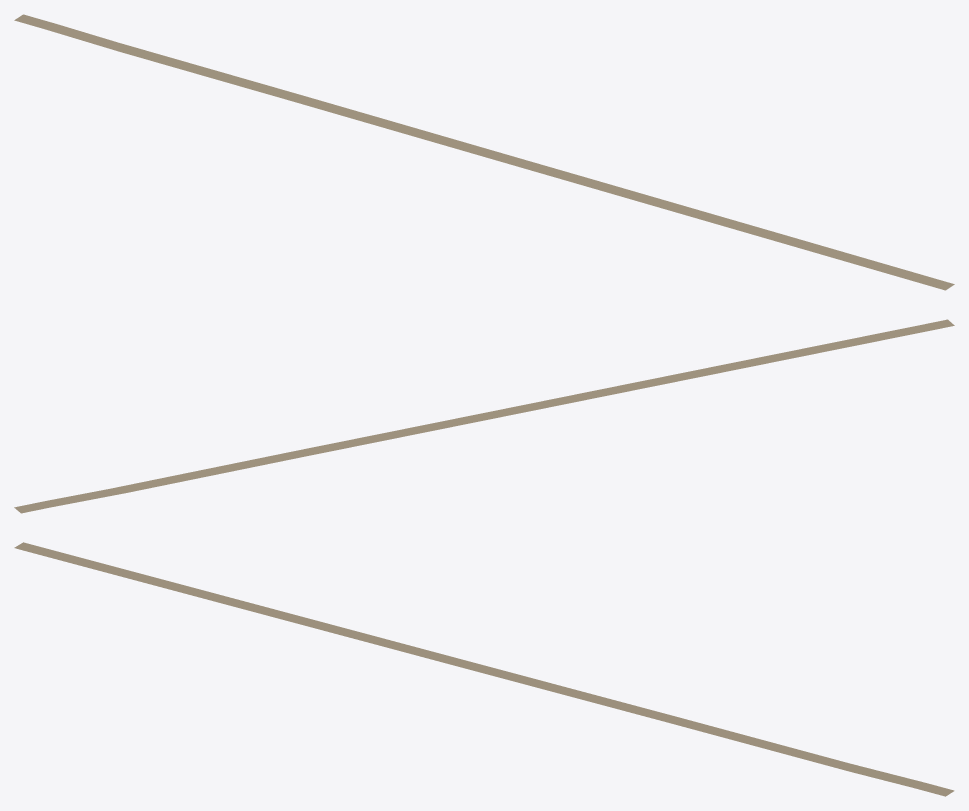
File: farm_-47_-41_track.glb
3 renders of one model, top to bottom at view 1: azimuth 90°, elevation 25°; view 2: azimuth 150°, elevation 25°; view 3: azimuth 270°, elevation 25°, orthographic. The views are drawn at different scales.
Parts seen in each view (by area): view 1: geometry_0; view 2: geometry_0; view 3: geometry_0.
Boxes of the visible parts, x1=… form: geometry_0: x1=14, y1=14, x2=954, y2=290; geometry_0: x1=14, y1=319, x2=954, y2=513; geometry_0: x1=14, y1=542, x2=954, y2=796.
Bounding box in the file's own units: 121 × 2.33 × 182.
